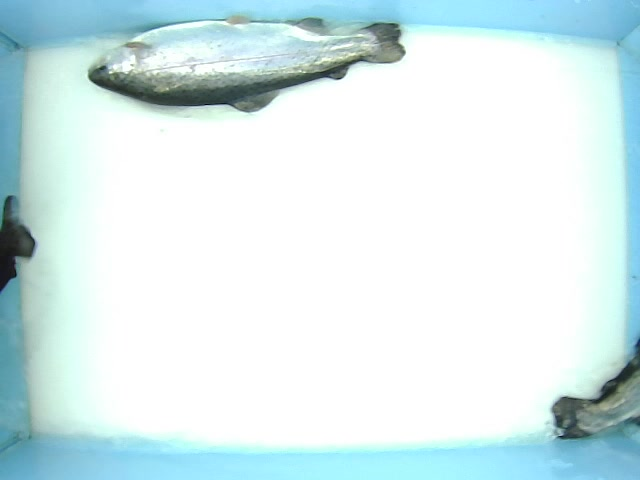fish: (82, 11, 402, 120)
